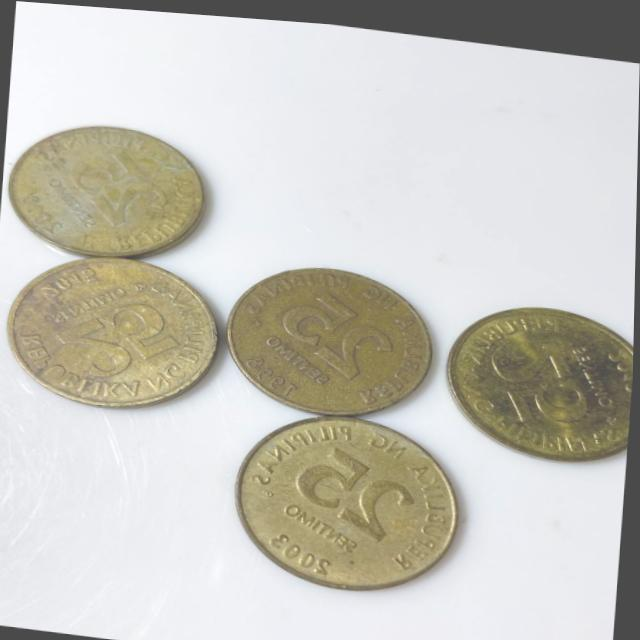25Cent_Old_Front: (295, 435, 416, 536), (55, 289, 173, 383), (278, 282, 393, 372), (480, 328, 584, 424), (69, 143, 169, 232)
